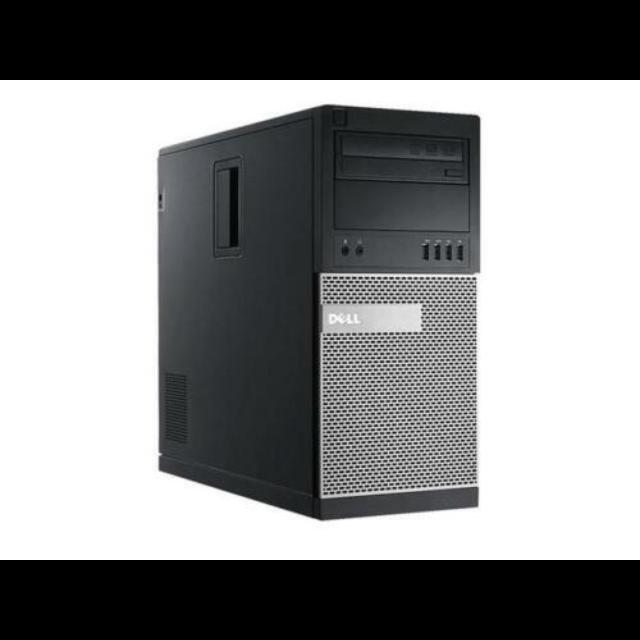Desktop-PC: (156, 103, 488, 525)
